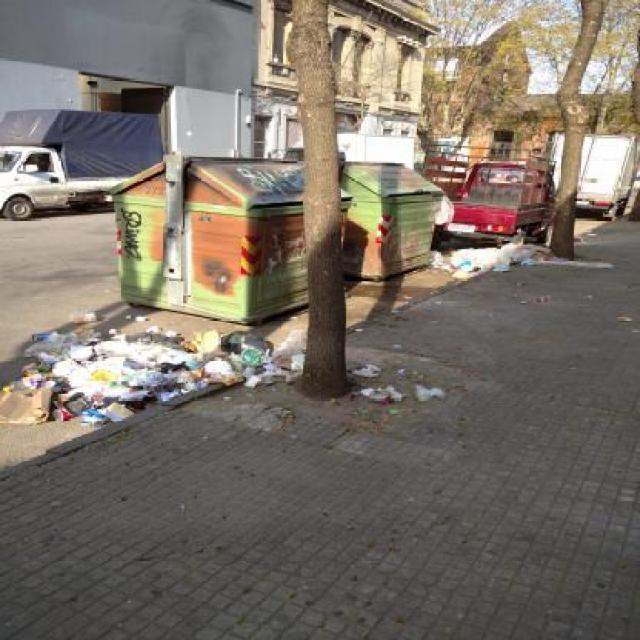garbage: (0, 294, 440, 460), (411, 239, 577, 296)
